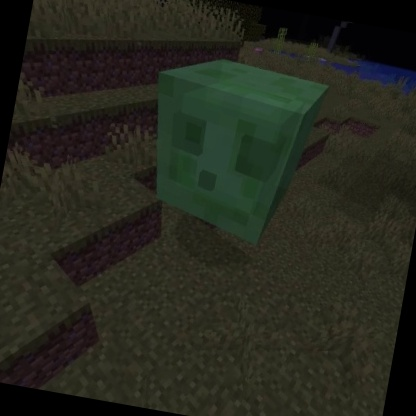slime: (124, 42, 335, 259)
